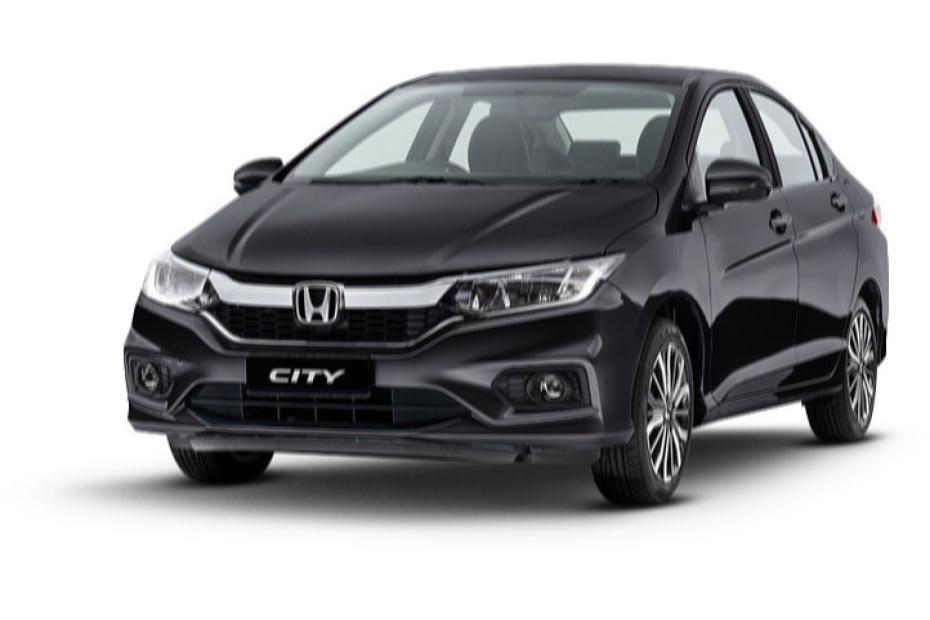Car hood: (164, 176, 664, 283)
Fender - -F-L-: (606, 165, 723, 437)
Front bumper: (122, 296, 643, 464)
Headlight - -L-: (432, 243, 636, 322)
Headlight - -R-: (137, 240, 216, 315)
Passenger-s door - -F-L-: (686, 69, 803, 408)
Passenger-s door - -R-L-: (752, 70, 866, 387)
Side bumper - -L-: (691, 362, 860, 431)
Side mirror - -L-: (699, 154, 777, 210)
Side mirror - -R-: (220, 149, 293, 201)
